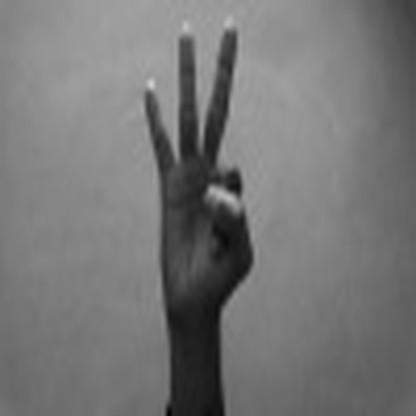f: (132, 19, 274, 299)
